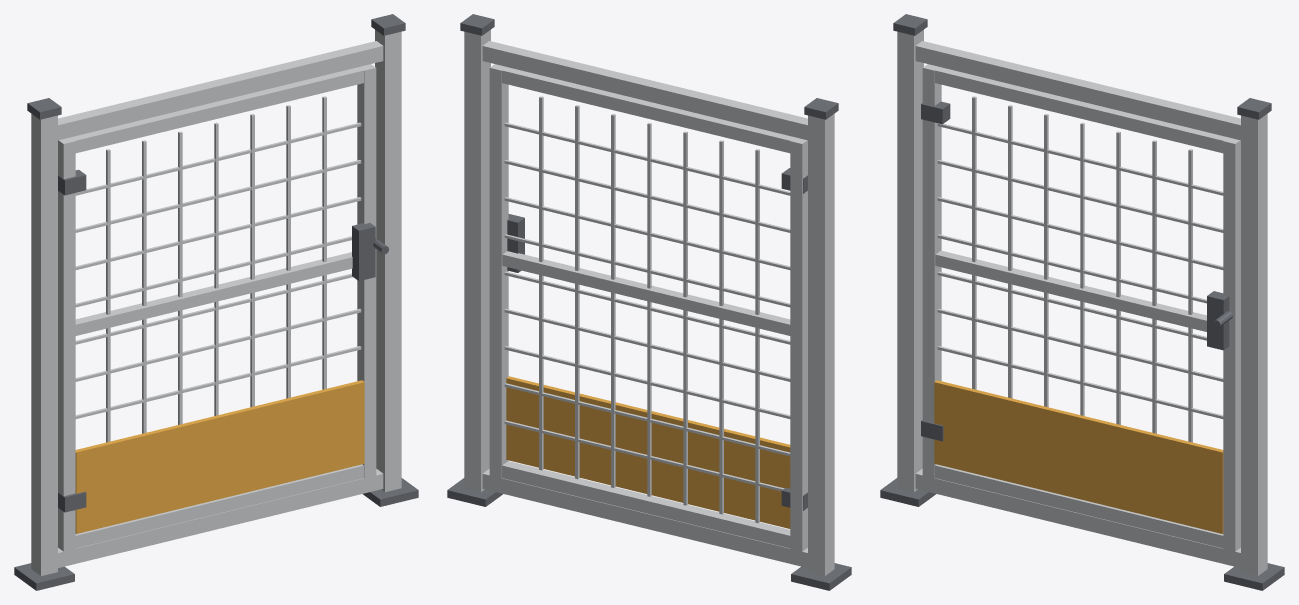
Rendered from boarding-kennels-and-cattery-boarding-kennels-and-catt-ab0ccebd__35537.glb.
The picture shows the model from 3 angles, left to right: view 1: azimuth 30°, elevation 25°; view 2: azimuth 150°, elevation 25°; view 3: azimuth 330°, elevation 25°; orthographic projection.
Parts seen in each view (by area): view 1: run-gate-leaf/steel, boarding-kennels-and-cattery-outdoor-run-gate-panel, run-gate-leaf/orange, run-gate-leaf/charcoal; view 2: run-gate-leaf/steel, boarding-kennels-and-cattery-outdoor-run-gate-panel, run-gate-leaf/orange, run-gate-leaf/charcoal; view 3: run-gate-leaf/steel, boarding-kennels-and-cattery-outdoor-run-gate-panel, run-gate-leaf/orange, run-gate-leaf/charcoal.
Boxes of the visible parts, x1,y1,x2,y2 form: run-gate-leaf/steel: (58,64,376,551); boarding-kennels-and-cattery-outdoor-run-gate-panel: (14,14,418,590); run-gate-leaf/orange: (75,380,364,533); run-gate-leaf/charcoal: (58,169,388,512); run-gate-leaf/steel: (489,64,807,551); boarding-kennels-and-cattery-outdoor-run-gate-panel: (447,14,851,590); run-gate-leaf/orange: (506,376,790,528); run-gate-leaf/charcoal: (507,168,807,510); run-gate-leaf/steel: (922,64,1240,551); boarding-kennels-and-cattery-outdoor-run-gate-panel: (880,14,1284,590); run-gate-leaf/orange: (934,380,1223,533); run-gate-leaf/charcoal: (921,101,1232,441).
Bounding box in the file's own units: 1.59 × 1.88 × 0.205.
